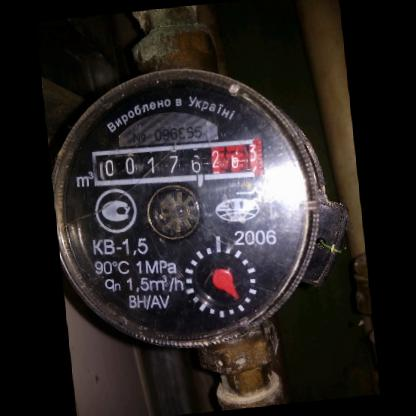digital_screen: (89, 141, 211, 191)
